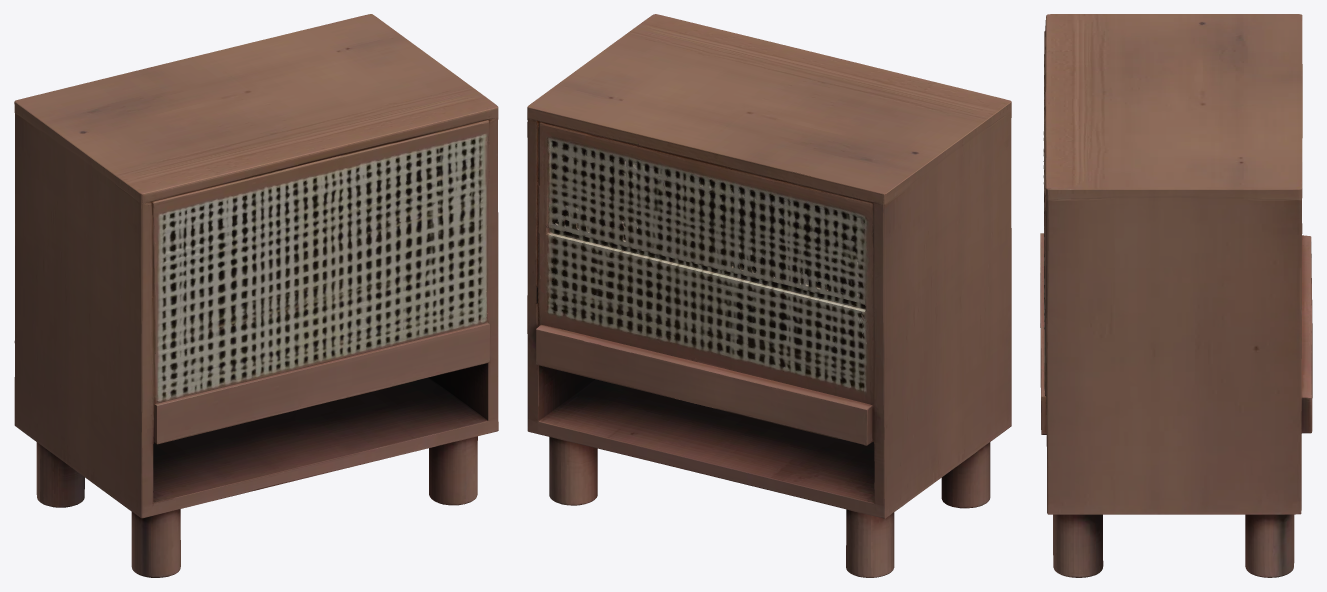
3 views of the same model, side by side, from view 1: azimuth 30°, elevation 25°; view 2: azimuth 150°, elevation 25°; view 3: azimuth 270°, elevation 25° (orthographic).
Parts seen in each view (by area): view 1: world; view 2: world; view 3: world.
Boxes of the visible parts, x1,y1,x2,y2 form: world: (14,14,498,577); world: (527,14,1011,577); world: (1040,14,1312,577).
Size of the model in its own units: 0.9549 by 1 by 0.6267.
1 material, 1 textured.
